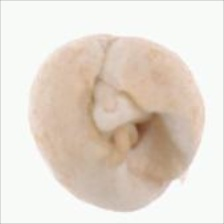L3: (88, 75, 160, 166)
L4: (29, 35, 206, 213)
